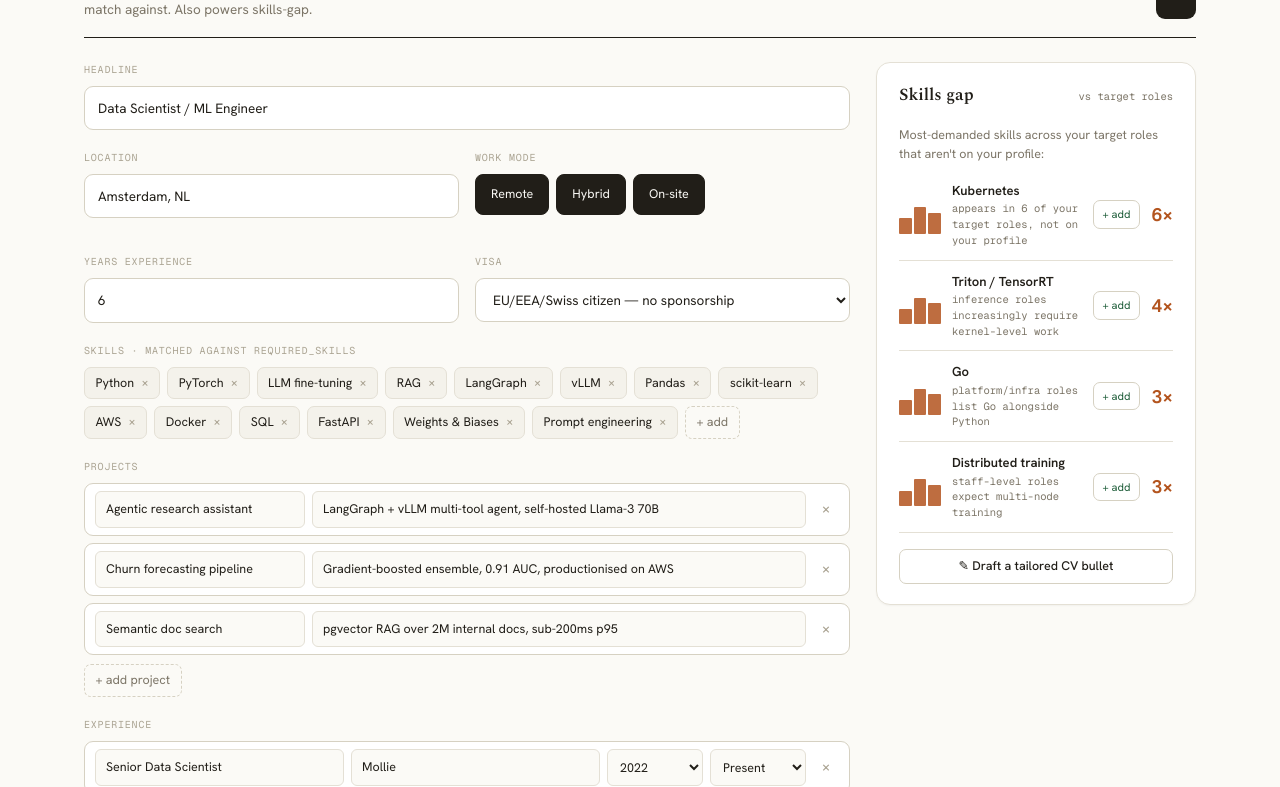
Test: CandidateView › gates Save on dirty state
This screenshot has width=1280, height=787.
Replace the text in the field showing "Data Scientist / ML Engineer" below "Headline" with "Staff ML Engineer" at (467, 108), box [84,86,850,130]
(page scrolled)
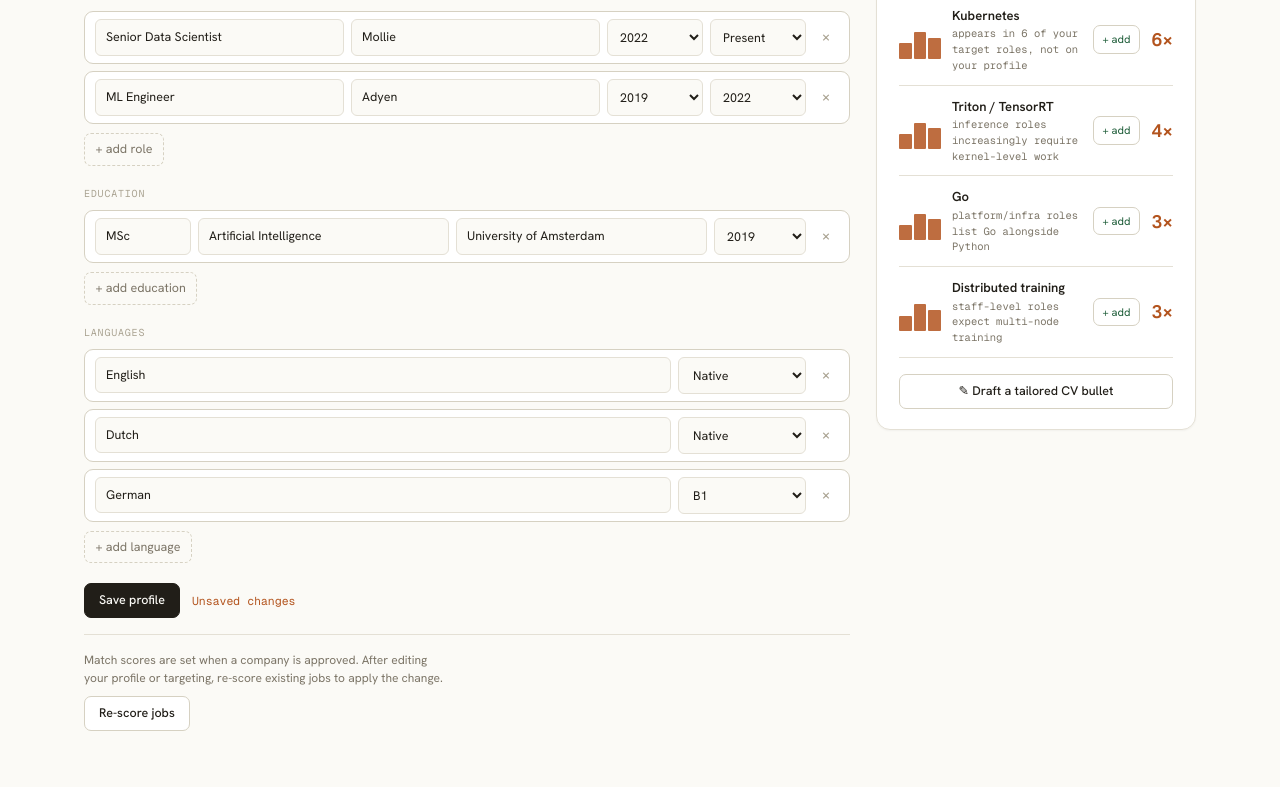
Expected: the button "Save profile" is enabled, [84,583,180,618]
Expected: the text "Unsaved changes" is shown, [192,592,296,609]
